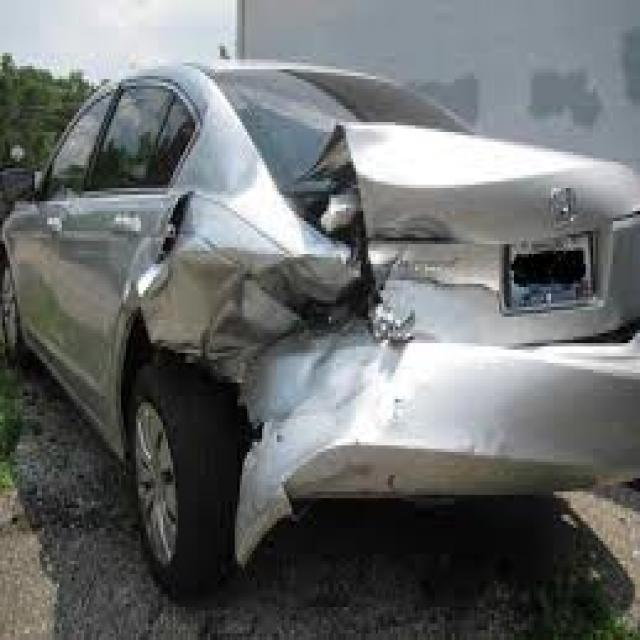damaged-trunk: (298, 118, 640, 362)
